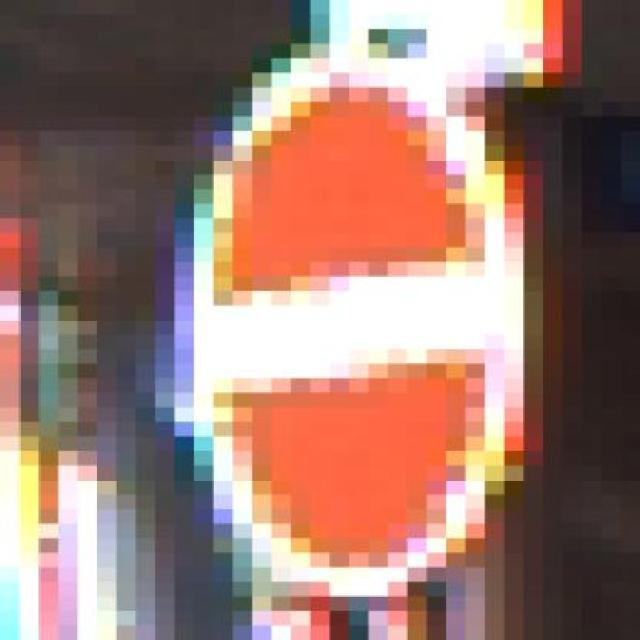B2: (190, 54, 510, 582)
